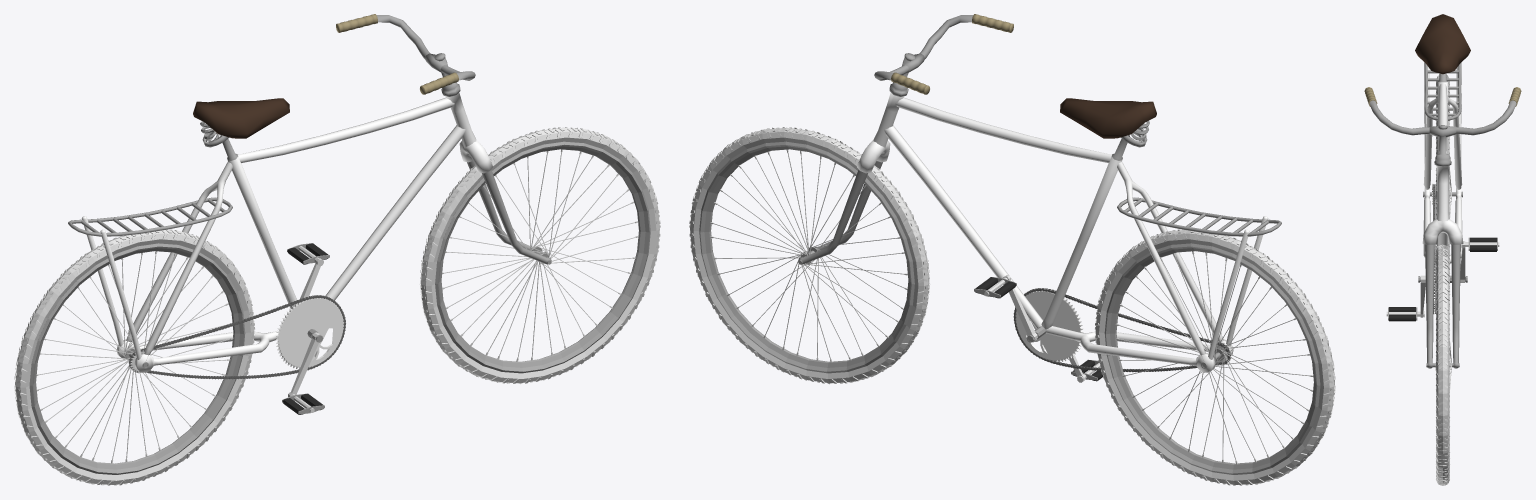
Rendered from Sketchfab_2021_09_17_19_53_39.fbx.
3 renders of one model, left to right at view 1: azimuth 30°, elevation 25°; view 2: azimuth 150°, elevation 25°; view 3: azimuth 270°, elevation 25°, orthographic. The views are drawn at different scales.
Visible parts, largest first — view 1: Bicycle-Body, Bicycle-Front-Tire, Bicycle-Back-Tire, Bicycle-Front-Tire-Ring, Bicycle-Back-Tire-Ring, Bicycle-Center-Gear, Bicycle-Seat, Bicycle-Front-Tire-Pattern, Bicycle-Back-Tire-Pattern, Bicycle-Tark, Bicycle-HandleBars, Bicycle-Chain (+9 smaller); view 2: Bicycle-Body, Bicycle-Front-Tire, Bicycle-Back-Tire, Bicycle-Front-Tire-Ring, Bicycle-Back-Tire-Ring, Bicycle-Seat, Bicycle-Front-Tire-Pattern, Bicycle-Back-Tire-Pattern, Bicycle-Center-Gear, Bicycle-Tark, Bicycle-HandleBars, Bicycle-Chain (+9 smaller); view 3: Bicycle-Body, Bicycle-Front-Tire, Bicycle-Seat, Bicycle-Front-Tire-Pattern, Bicycle-HandleBars, Bicycle-Tark, Bicycle-Pedals, Bicycle-Right-Pedal, Bicycle-Left-Pedal, Bicycle-Hub, Bicycle-Back-Tire, Bicycle-Chain (+1 smaller).
Boxes of the visible parts, x1,y1,x2,y2 form: Bicycle-Body: (81, 53, 551, 372); Bicycle-Front-Tire: (420, 127, 659, 383); Bicycle-Back-Tire: (15, 230, 254, 484); Bicycle-Front-Tire-Ring: (435, 141, 650, 373); Bicycle-Back-Tire-Ring: (29, 243, 245, 474); Bicycle-Center-Gear: (279, 298, 343, 366); Bicycle-Seat: (193, 98, 289, 147); Bicycle-Front-Tire-Pattern: (420, 127, 660, 384); Bicycle-Back-Tire-Pattern: (14, 229, 254, 485); Bicycle-Tark: (68, 197, 232, 236); Bicycle-HandleBars: (336, 14, 475, 94); Bicycle-Chain: (128, 295, 345, 379); Bicycle-Body: (798, 53, 1268, 372); Bicycle-Front-Tire: (690, 127, 929, 383); Bicycle-Back-Tire: (1095, 230, 1334, 484); Bicycle-Front-Tire-Ring: (699, 141, 914, 373); Bicycle-Back-Tire-Ring: (1104, 243, 1320, 474); Bicycle-Seat: (1060, 98, 1156, 147); Bicycle-Front-Tire-Pattern: (689, 127, 929, 384); Bicycle-Back-Tire-Pattern: (1095, 229, 1335, 485); Bicycle-Center-Gear: (1016, 291, 1080, 360); Bicycle-Tark: (1117, 197, 1281, 236); Bicycle-HandleBars: (874, 14, 1013, 94); Bicycle-Chain: (1013, 288, 1230, 372); Bicycle-Body: (1418, 62, 1467, 368); Bicycle-Front-Tire: (1436, 245, 1449, 484); Bicycle-Seat: (1415, 14, 1470, 74); Bicycle-Front-Tire-Pattern: (1436, 244, 1449, 485); Bicycle-HandleBars: (1364, 87, 1521, 135); Bicycle-Tark: (1424, 63, 1461, 120); Bicycle-Pedals: (1386, 241, 1499, 317); Bicycle-Right-Pedal: (1388, 307, 1417, 321); Bicycle-Left-Pedal: (1468, 237, 1497, 251); Bicycle-Hub: (1429, 126, 1456, 137); Bicycle-Back-Tire: (1436, 81, 1449, 249); Bicycle-Chain: (1433, 184, 1435, 313).
Bounding box in the file's own units: 1581 × 868 × 381.
